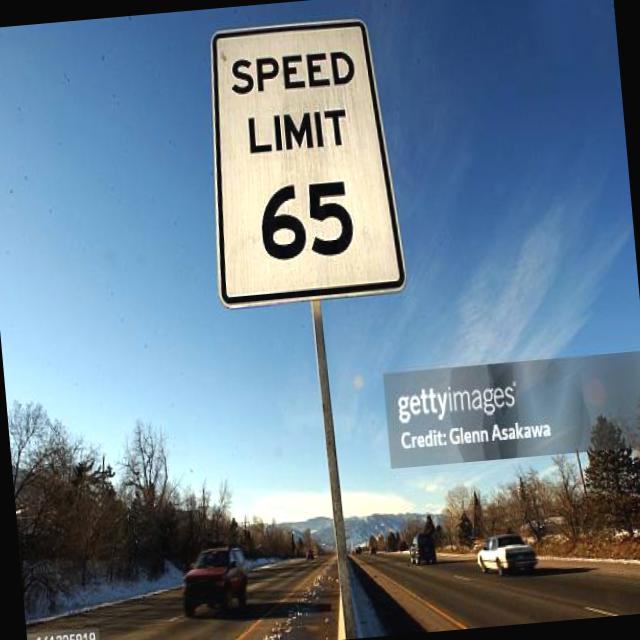Speed Limit Signs: (192, 12, 410, 312)
